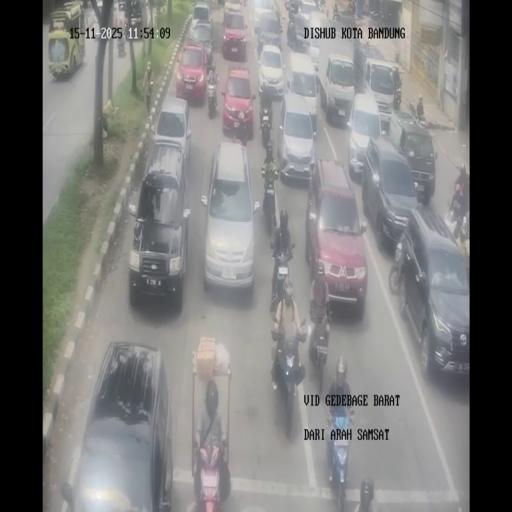car: (64, 340, 173, 510), (393, 214, 469, 380), (306, 158, 368, 314), (202, 138, 258, 294), (389, 111, 437, 199), (150, 95, 192, 181), (276, 92, 316, 182), (346, 91, 382, 175), (321, 50, 355, 125), (222, 64, 254, 136), (306, 10, 334, 68), (258, 43, 285, 101), (222, 6, 248, 60), (187, 21, 214, 67), (254, 9, 282, 52), (123, 0, 143, 34), (295, 0, 319, 22), (191, 1, 212, 26), (112, 1, 126, 30), (95, 0, 103, 21)
motorcycle: (270, 326, 308, 433), (324, 404, 355, 510), (194, 430, 228, 511), (307, 306, 333, 385), (269, 240, 293, 309), (261, 167, 279, 231), (388, 234, 406, 293), (206, 72, 219, 118), (259, 110, 273, 150), (447, 195, 462, 226), (409, 100, 425, 124), (392, 79, 402, 109), (286, 21, 296, 48), (287, 0, 296, 23), (370, 4, 380, 22), (117, 36, 125, 58), (379, 2, 387, 24), (347, 0, 356, 18), (332, 6, 340, 21), (362, 3, 370, 17), (278, 18, 284, 36), (317, 0, 326, 11)
truck: (47, 2, 85, 78)
